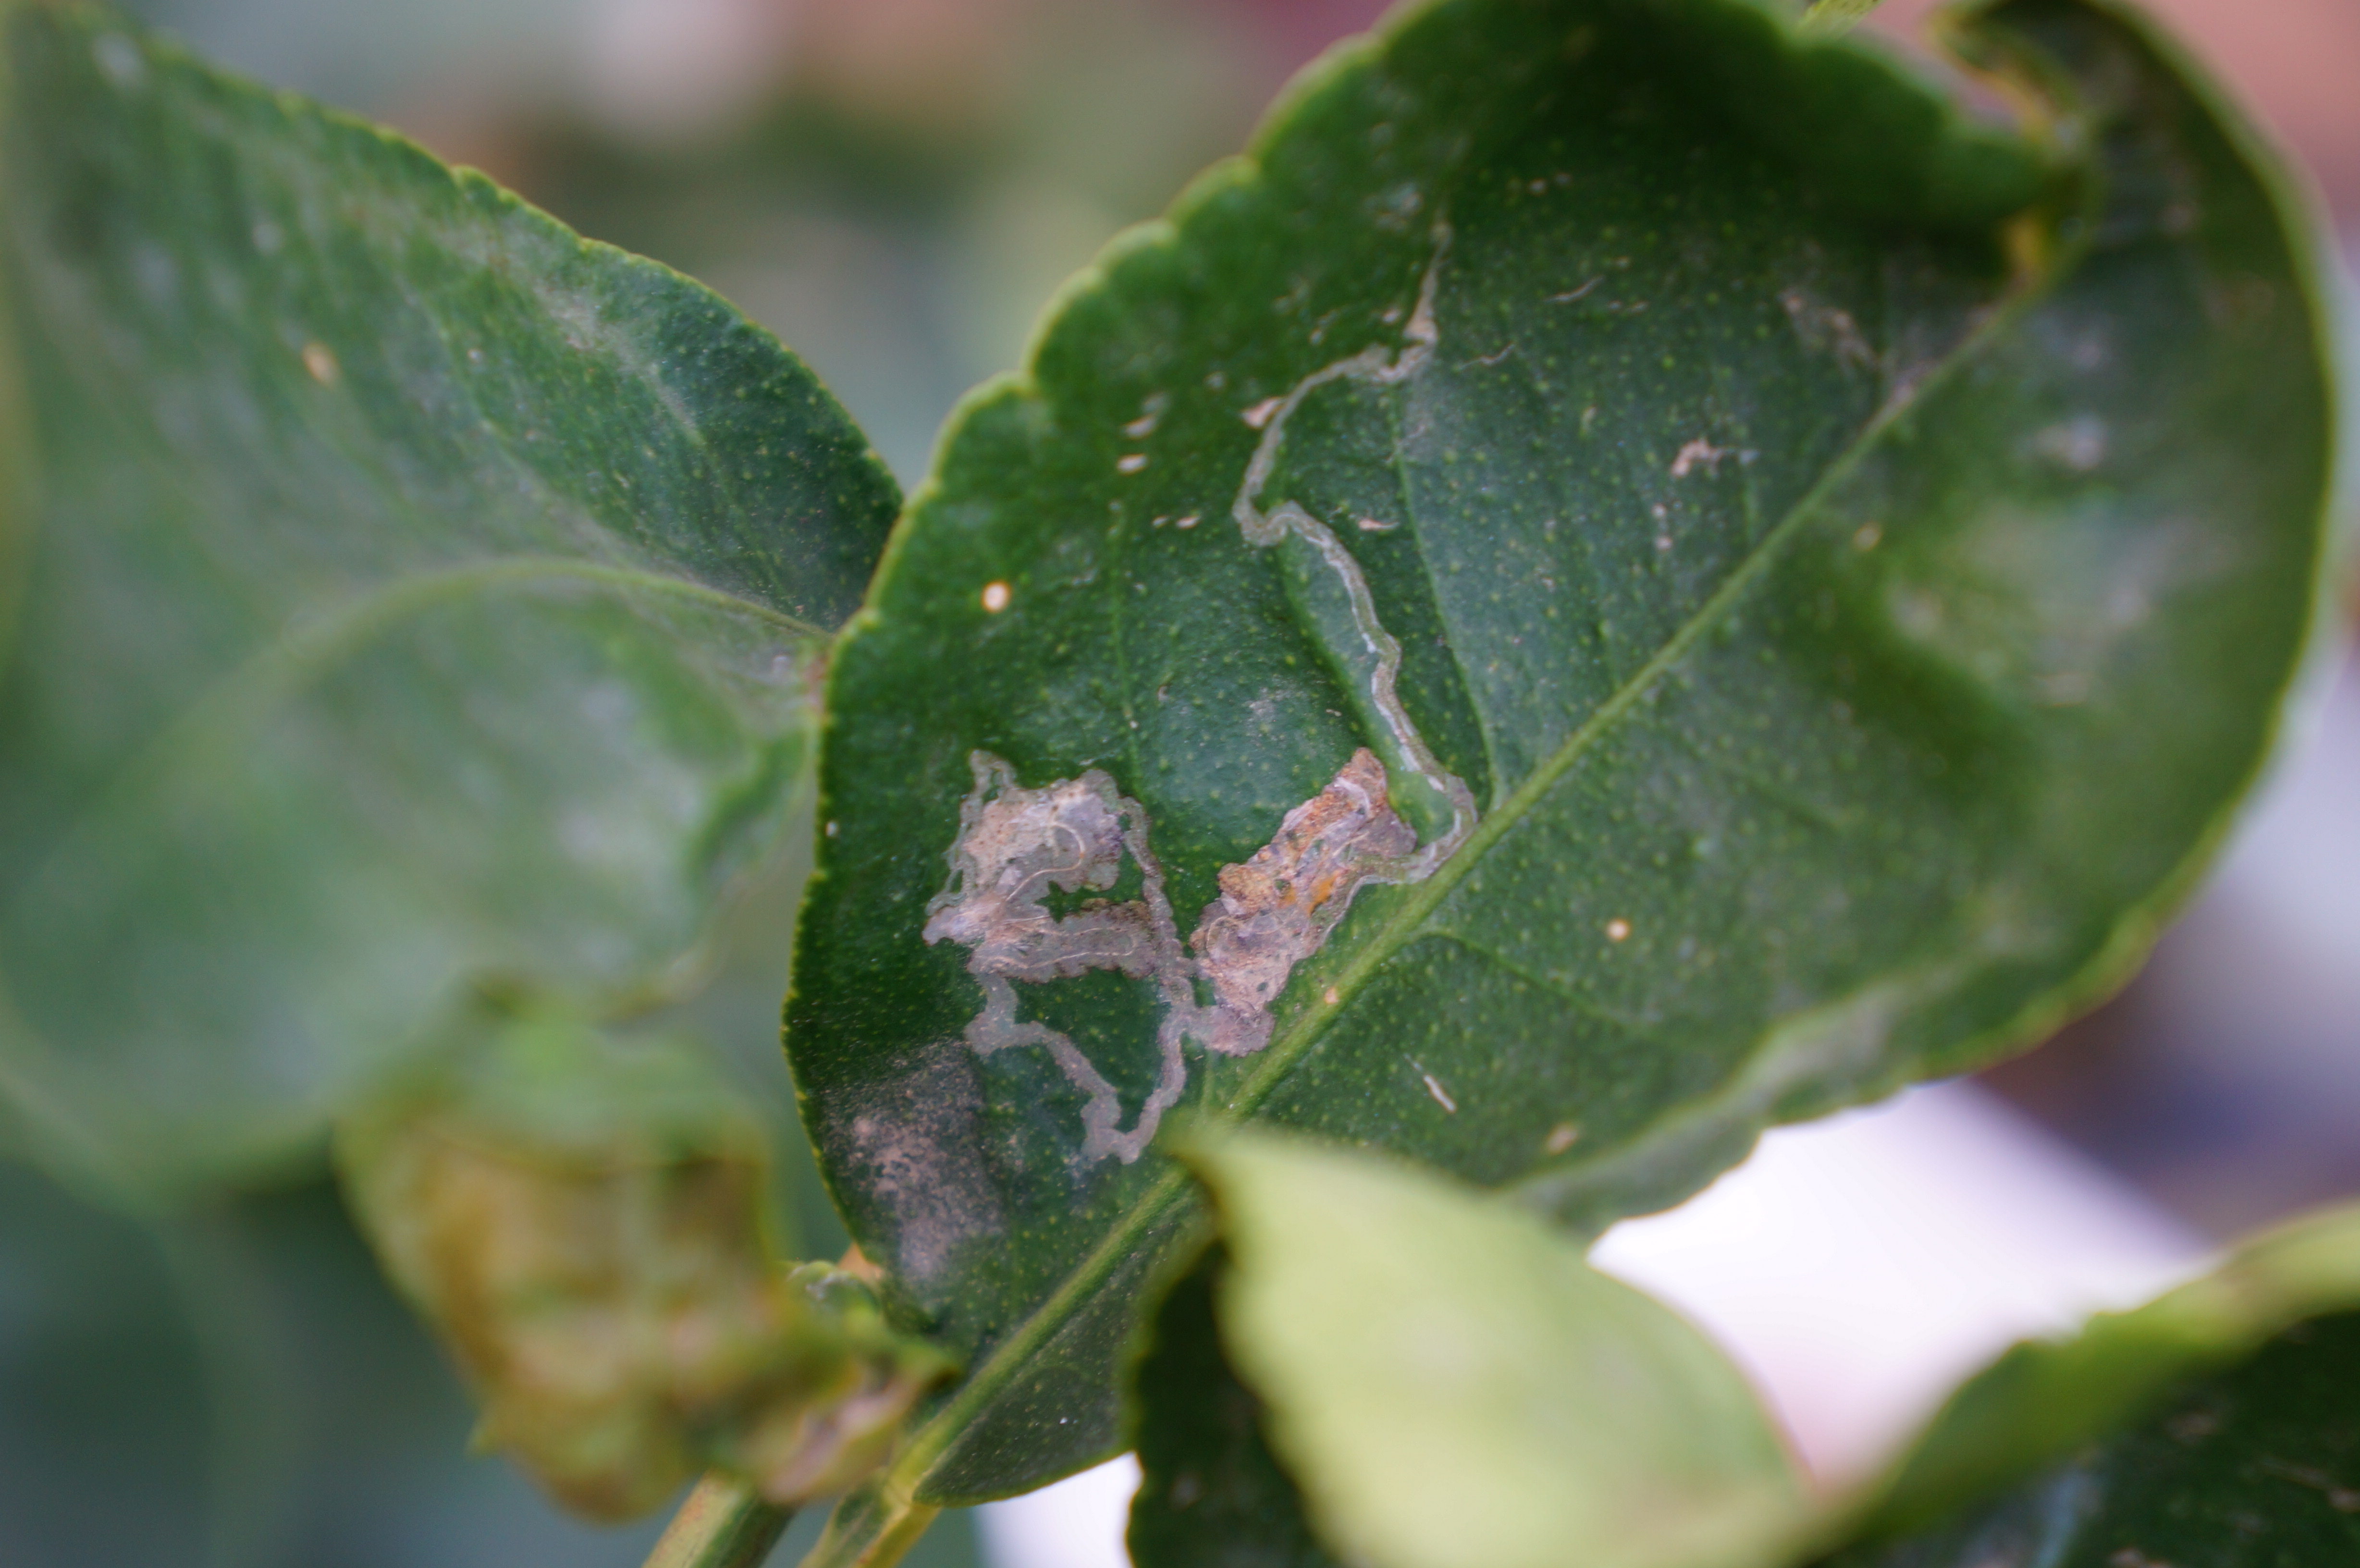damage: (910, 229, 1520, 1188)
